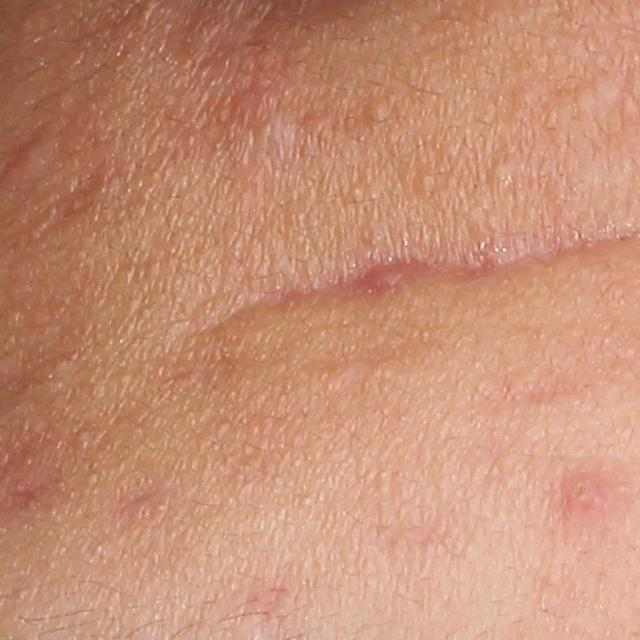comedo: (364, 95, 395, 122), (492, 154, 515, 180), (414, 170, 435, 188), (74, 428, 91, 442)
papule: (559, 458, 616, 513)
